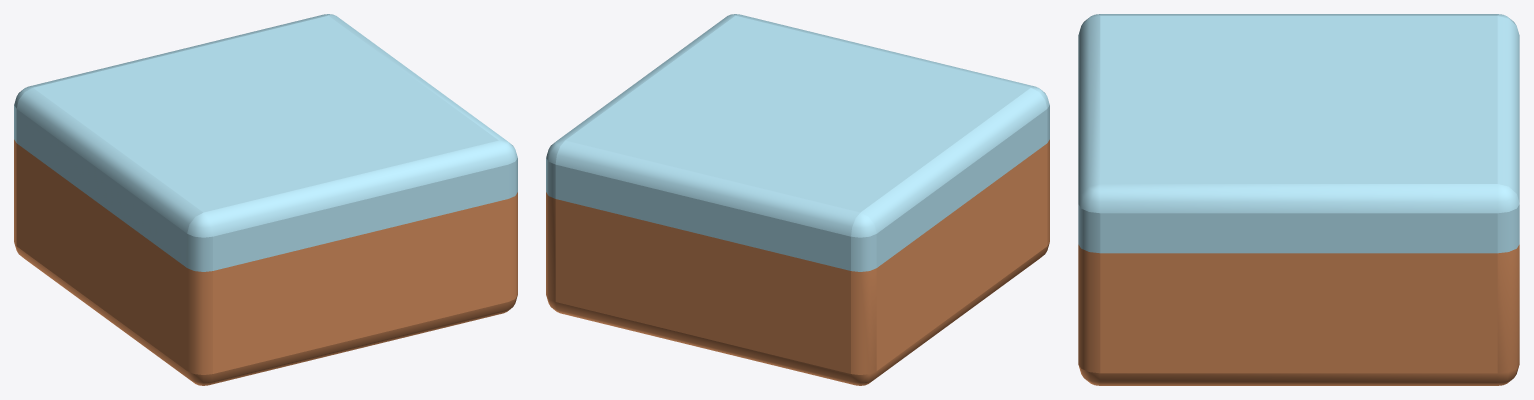
The model's file is blockSnowRoundedLarge.obj.
3 views of the same model, side by side, from view 1: azimuth 30°, elevation 25°; view 2: azimuth 150°, elevation 25°; view 3: azimuth 270°, elevation 25° (orthographic). The views are drawn at different scales.
Parts seen in each view (by area): view 1: blockSnowRoundedLarge; view 2: blockSnowRoundedLarge; view 3: blockSnowRoundedLarge.
Part boxes in pixels (x1,y1,x2,y2): blockSnowRoundedLarge: (14, 14, 517, 385); blockSnowRoundedLarge: (546, 14, 1049, 385); blockSnowRoundedLarge: (1078, 14, 1519, 385).
Size of the model in its own units: 2 by 1 by 2.
